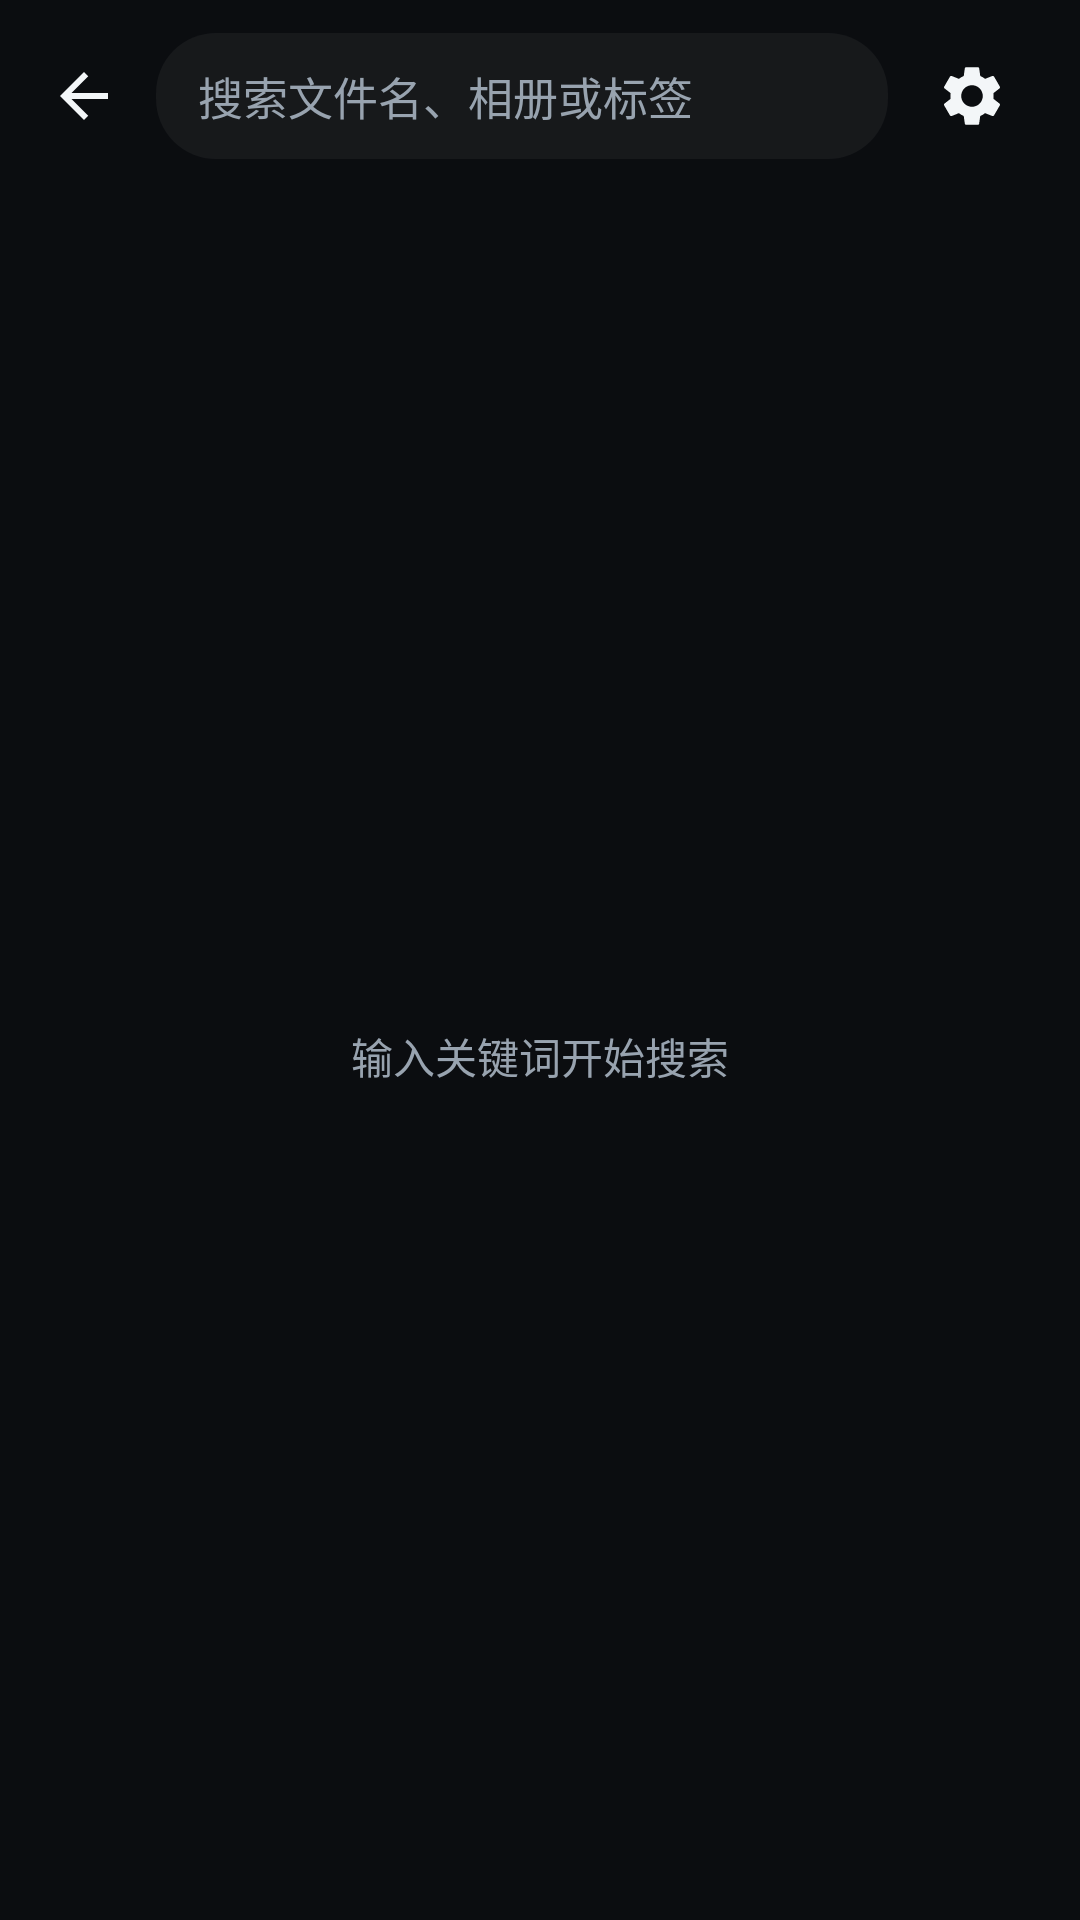

Where to tap for icons on this 1080px x 1920px app screen, as [x,y]:
设置: [972,96]
返回: [84,96]
